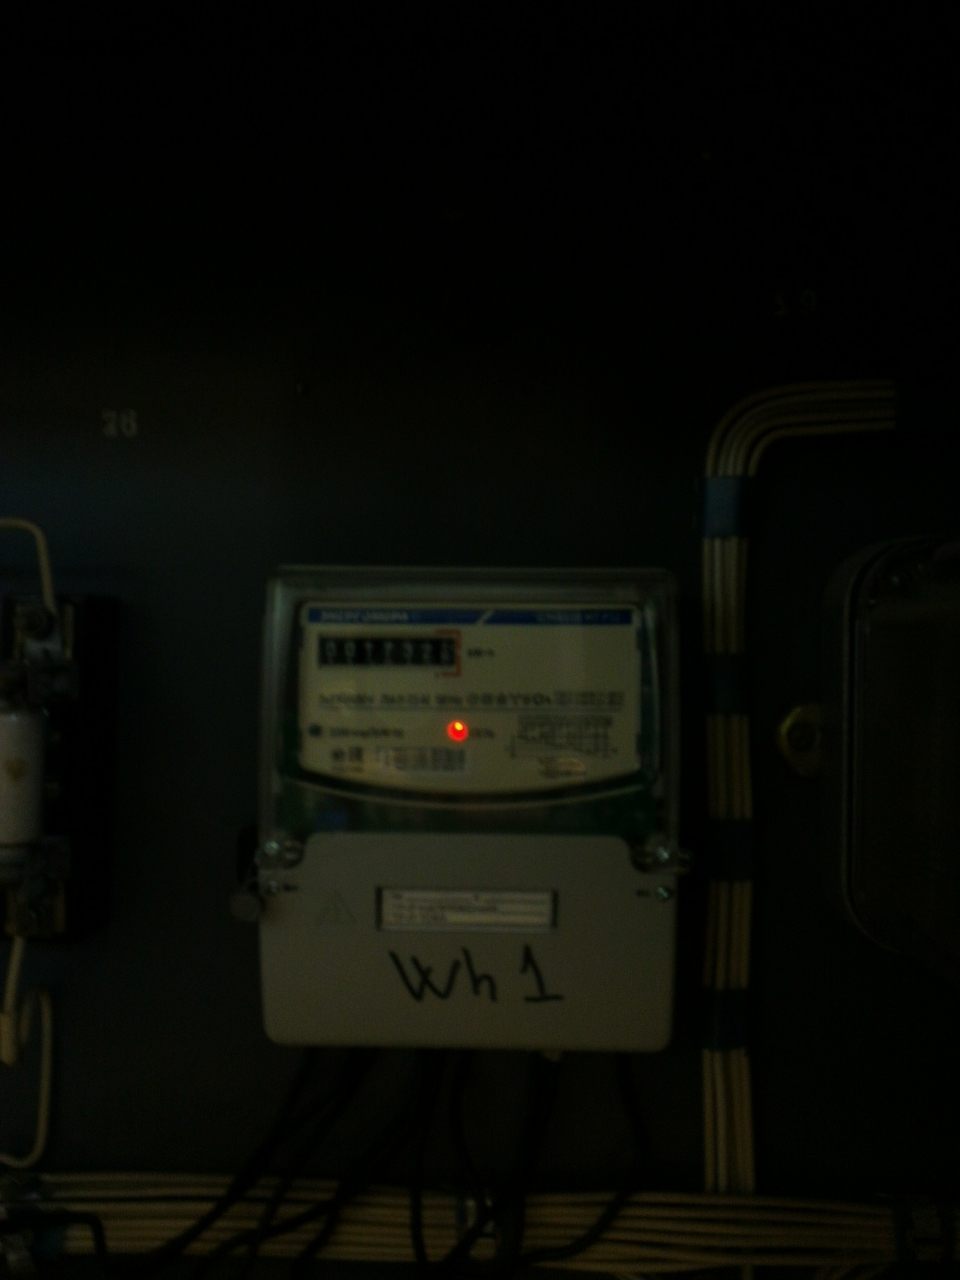screen: (311, 628, 465, 673)
x: (324, 640, 338, 658), (438, 641, 450, 661), (401, 641, 414, 659), (421, 642, 433, 661), (343, 641, 356, 658), (383, 641, 394, 659), (364, 641, 375, 658)
